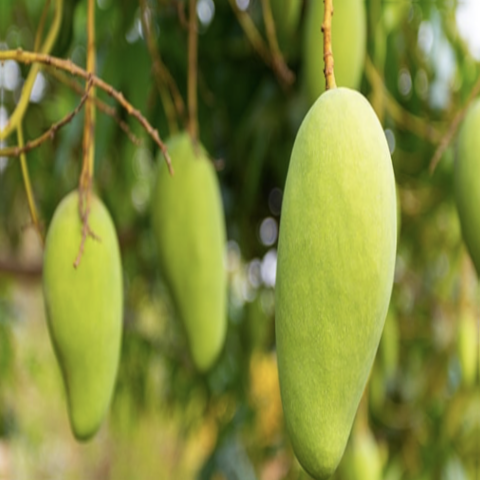mango: (253, 74, 420, 480), (138, 123, 240, 389), (31, 181, 128, 448)
